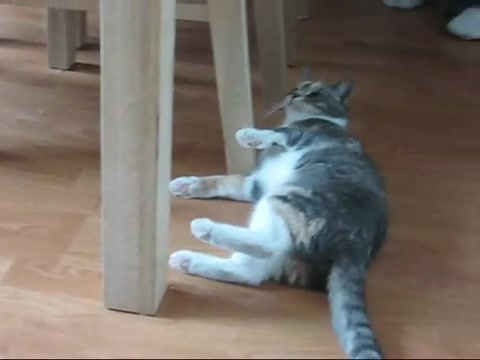cat: (169, 69, 394, 360)
